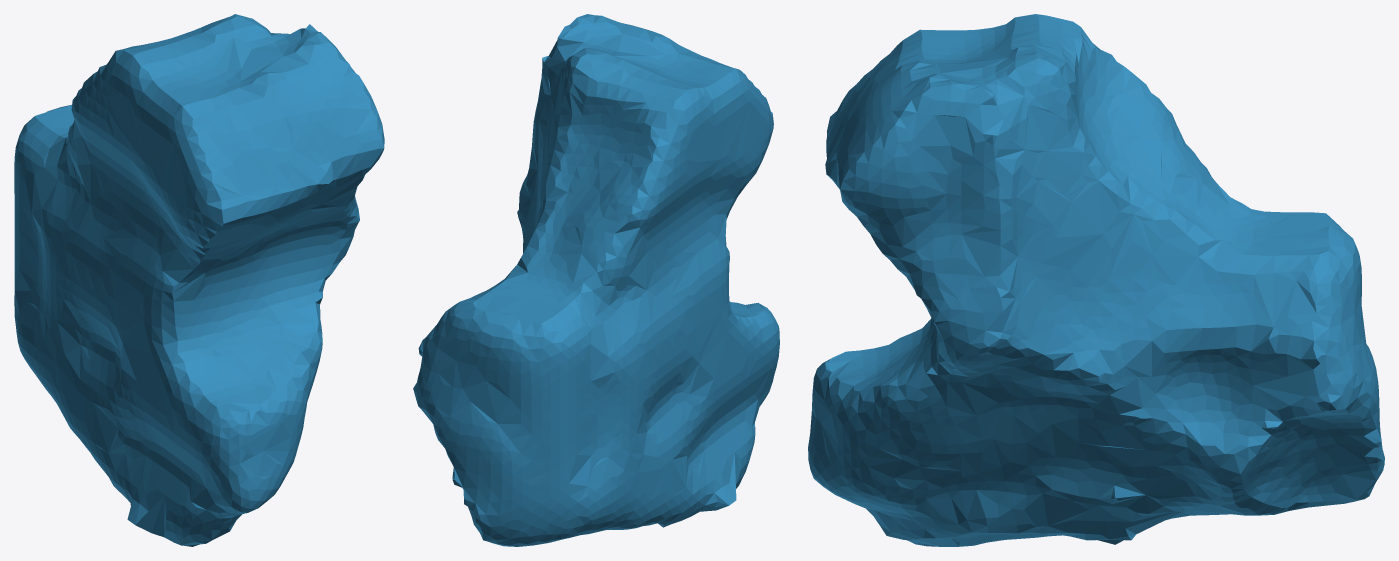
The model's file is Model_61_RH__Area_25_of_cortex_(A25).obj.
3 views of the same model, side by side, from view 1: azimuth 30°, elevation 25°; view 2: azimuth 150°, elevation 25°; view 3: azimuth 270°, elevation 25° (orthographic). The views are drawn at different scales.
Size of the model in its own units: 1.75 by 3.56 by 3.43.
